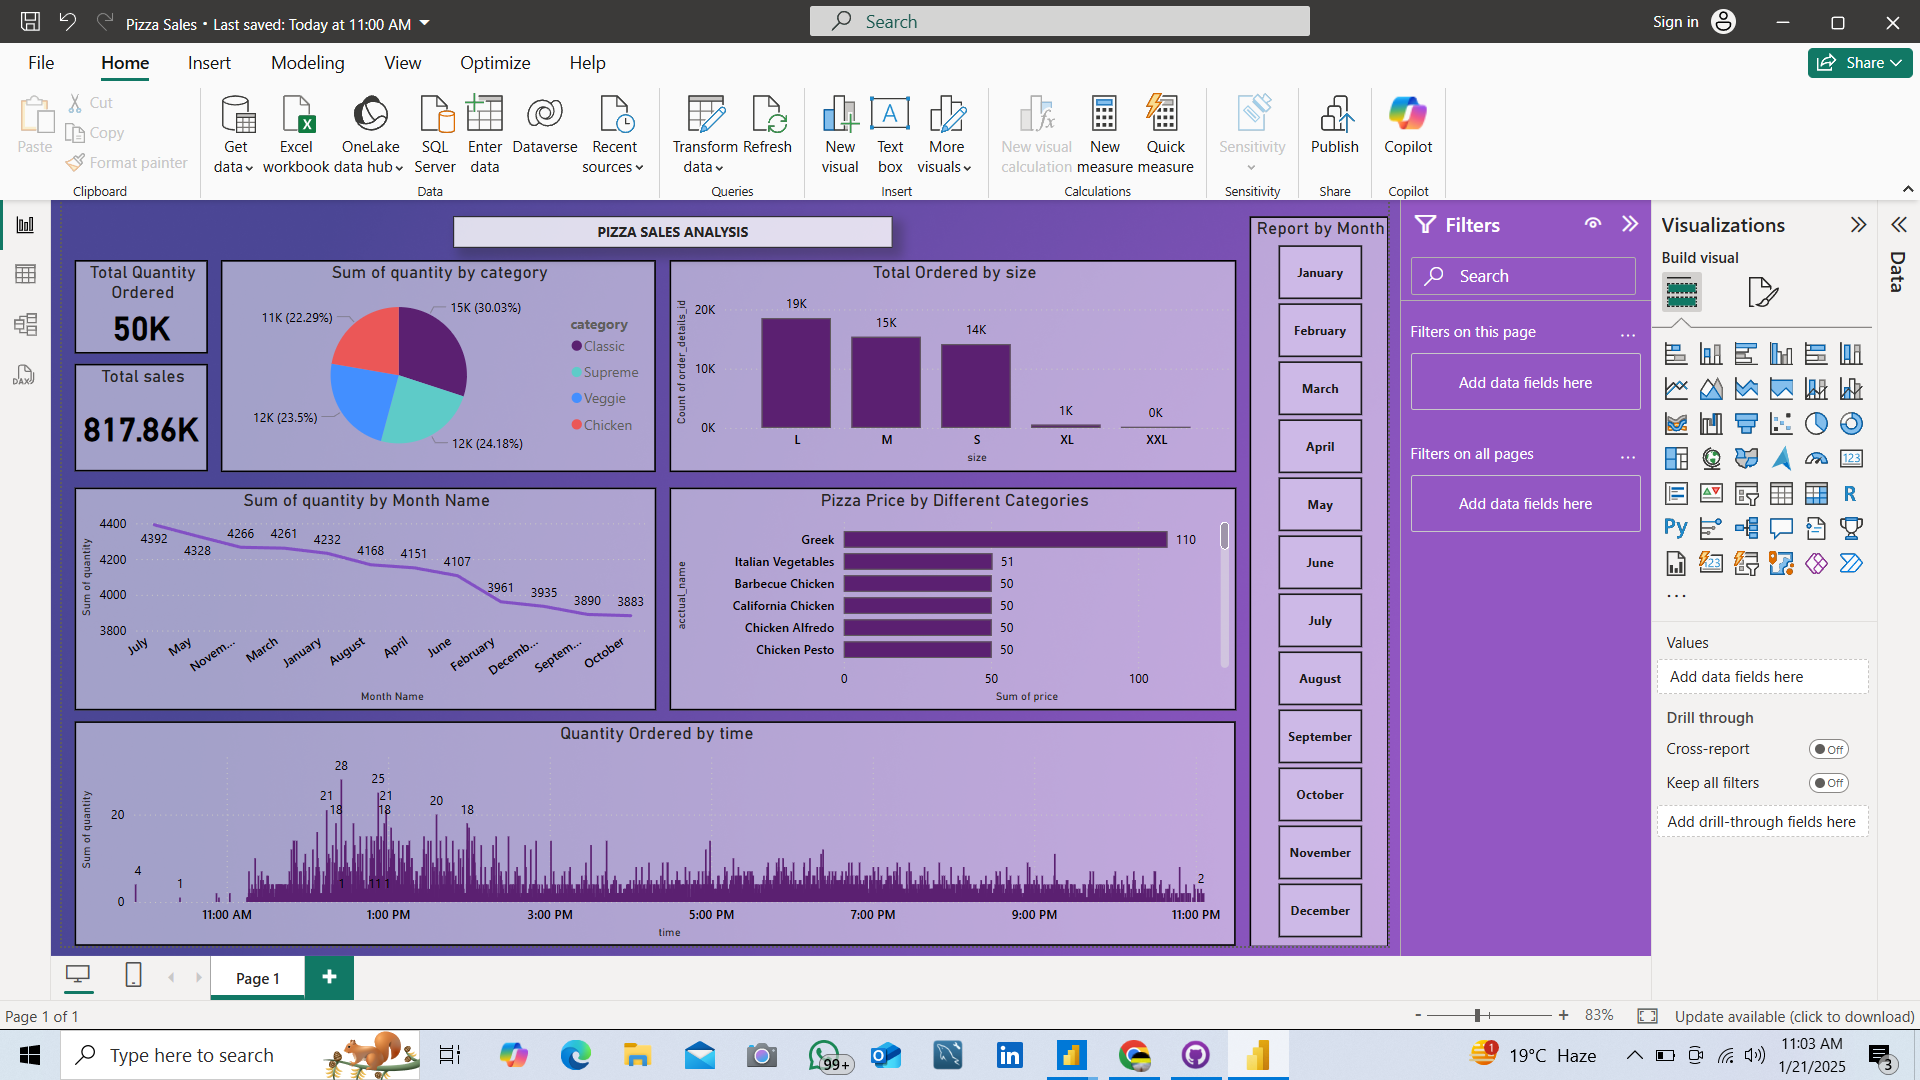

What the dashboard file says about the page in this screenshot:
{"tool":"powerbi","page":{"name":"Page 1","canvas":[1280,720],"ordinal":0},"visuals":[{"type":"barChart","title":"Pizza Price by Different Categories","fields":{"Category":["pizza_types.acctual_name"],"Y":["Sum(pizzas.price)"]},"box":[585.9,277.2,547.5,215.4],"z":0},{"type":"pieChart","fields":{"Category":["pizza_types.category"],"Y":["Sum(order_details.quantity)"]},"box":[153.7,57.6,419.9,204.5],"z":1000},{"type":"columnChart","title":"Quantity Ordered by time","fields":{"Category":["orders.time"],"Y":["Sum(order_details.quantity)"]},"box":[12.3,503.6,1121.1,216.8],"z":2000},{"type":"card","title":"Total Quantity Ordered","fields":{"Values":["Sum(order_details.quantity)"]},"box":[12.3,57.6,129,90.6],"z":3000},{"type":"clusteredColumnChart","title":"Total Ordered by size","fields":{"Category":["pizzas.size"],"Y":["CountNonNull(order_details.order_details_id)"]},"box":[585.9,57.6,547.5,204.5],"z":4000},{"type":"lineChart","fields":{"Category":["orders.Month Name"],"Y":["Sum(order_details.quantity)"]},"box":[12.3,277.2,561.2,215.4],"z":5000},{"type":"slicer","title":"Report by Month","fields":{"Values":["orders.Month Name"]},"box":[1145.8,15.1,134.5,705.3],"z":6000},{"type":"card","title":"Total sales","fields":{"Values":["Sum(order_details.total_ammount)"]},"box":[12.3,157.8,129,104.3],"z":7000},{"type":"textbox","box":[377.4,15.1,424,30.2],"z":8000}]}

Visuals, with their boxes on the page's 1280x720 design canvas (x1, y1, x2, y2). These are canvas units, not pixel positions in the 1920x1080 screenshot, which may show the page scaled, cropped or inside an application window:
"Pizza Price by Different Categories" barChart: rect(586, 277, 1133, 493)
pieChart - pizza_types.category x Sum(order_details.quantity): rect(154, 58, 574, 262)
"Quantity Ordered by time" columnChart: rect(12, 504, 1133, 720)
"Total Quantity Ordered" card: rect(12, 58, 141, 148)
"Total Ordered by size" clusteredColumnChart: rect(586, 58, 1133, 262)
lineChart - orders.Month Name x Sum(order_details.quantity): rect(12, 277, 574, 493)
"Report by Month" slicer: rect(1146, 15, 1280, 720)
"Total sales" card: rect(12, 158, 141, 262)
textbox: rect(377, 15, 801, 45)
